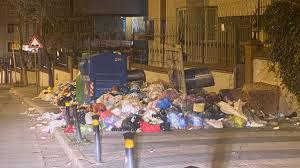Garbage: (96, 90, 273, 133), (27, 106, 64, 136), (35, 88, 72, 102), (125, 114, 147, 134), (138, 116, 160, 133), (170, 110, 187, 131), (147, 79, 169, 93), (145, 108, 166, 122), (102, 112, 120, 128), (43, 120, 63, 134), (100, 92, 116, 109), (189, 111, 203, 130), (231, 113, 250, 126), (154, 98, 170, 113), (90, 100, 106, 115), (279, 109, 300, 120), (160, 89, 179, 100), (153, 109, 170, 121), (130, 81, 144, 94), (119, 100, 135, 111), (20, 107, 36, 118), (81, 125, 97, 136), (118, 82, 131, 95), (39, 111, 58, 119), (205, 94, 221, 103), (85, 112, 95, 124), (210, 122, 222, 131), (109, 85, 117, 95)
